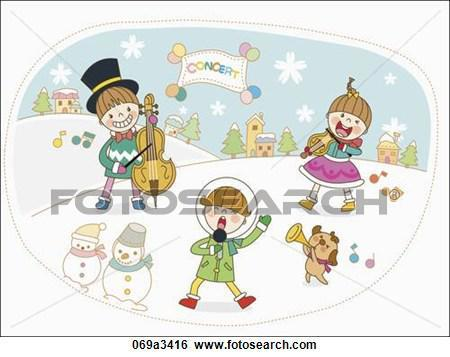dog: (301, 226, 342, 284)
person: (74, 56, 151, 213), (181, 175, 268, 310), (292, 76, 377, 214)
